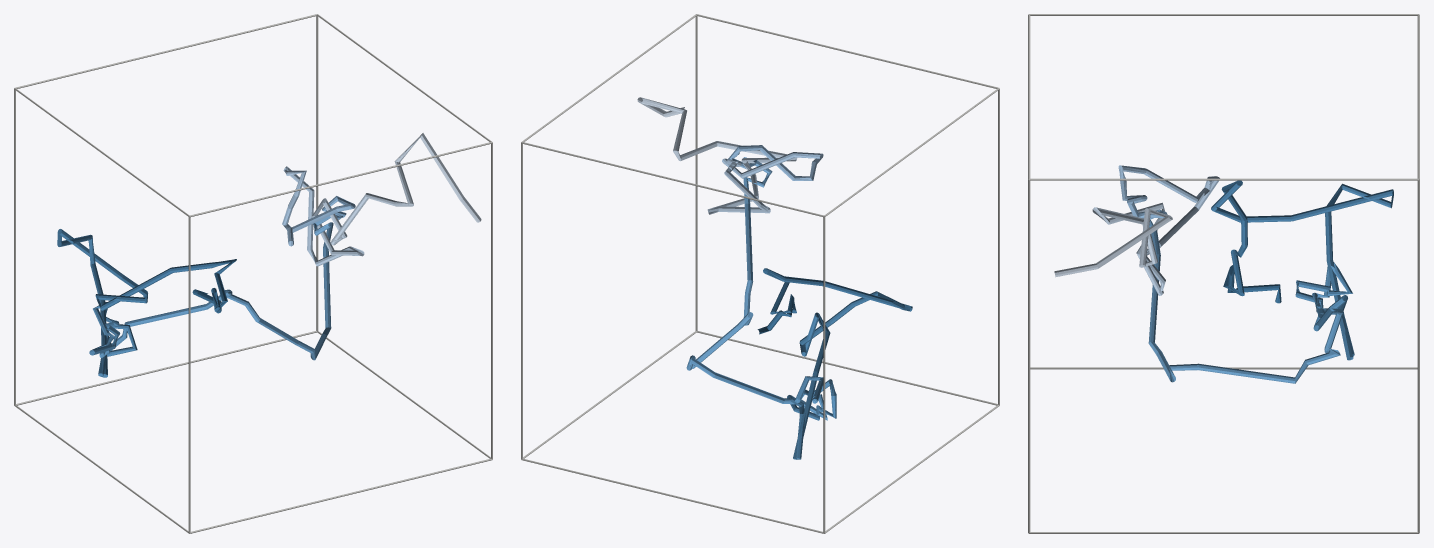
3 renders of one model, left to right at view 1: azimuth 30°, elevation 25°; view 2: azimuth 150°, elevation 25°; view 3: azimuth 270°, elevation 25°, orthographic. The views are drawn at different scales.
Visible parts, largest first — view 1: geometry_0, geometry_1; view 2: geometry_0, geometry_1; view 3: geometry_0, geometry_1.
Part boxes in pixels (x1,y1,x2,y2): geometry_0: [57, 133, 481, 377]; geometry_1: [14, 14, 492, 533]; geometry_0: [637, 97, 912, 459]; geometry_1: [521, 14, 999, 533]; geometry_0: [1054, 165, 1393, 383]; geometry_1: [1028, 14, 1419, 533].
Size of the model in its own units: 0.3033 by 0.3014 by 0.3016.
